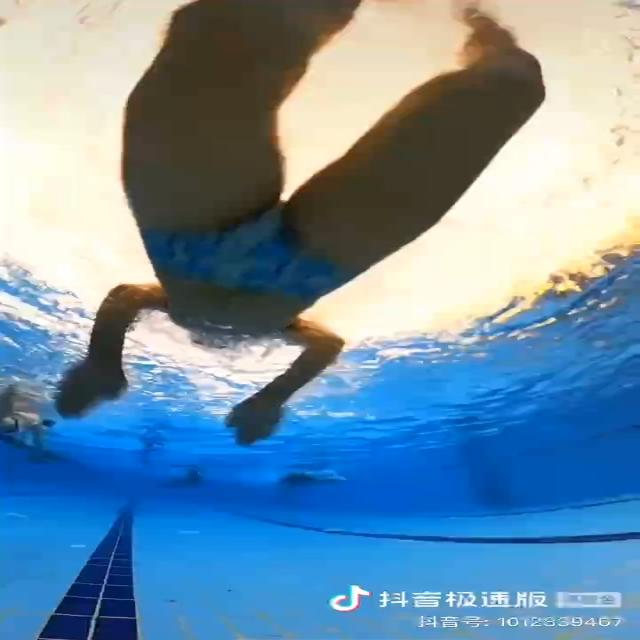Swimming: (53, 0, 548, 444)
